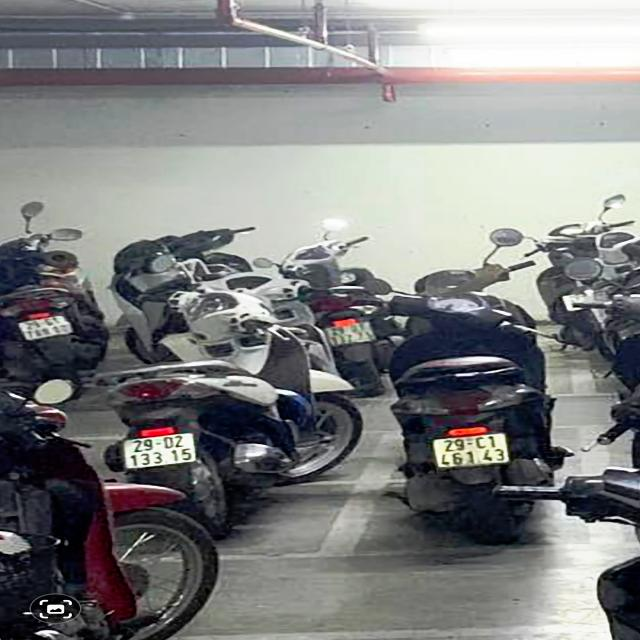license_plate: (123, 432, 199, 471), (434, 433, 514, 469), (14, 312, 81, 344), (322, 320, 382, 347)
